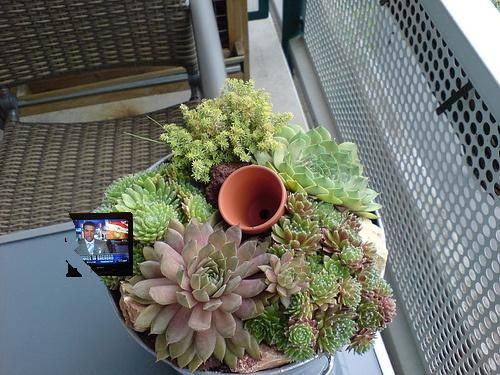tampered: (66, 213, 133, 277)
